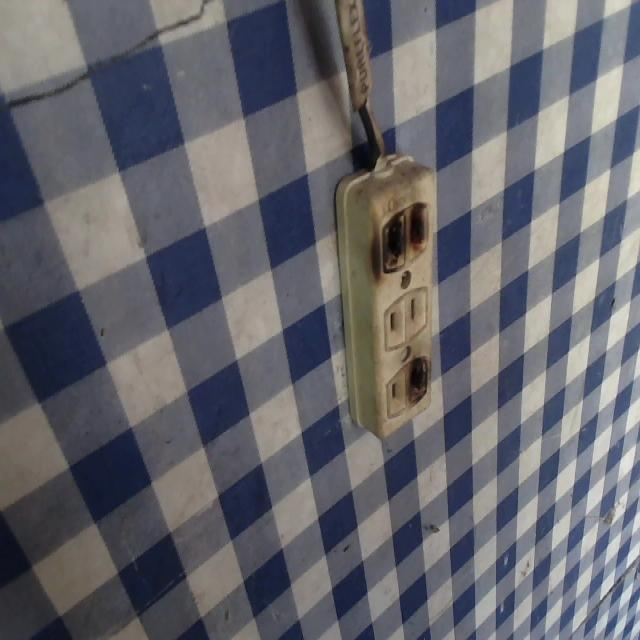-: (368, 195, 428, 280), (399, 354, 430, 406)
